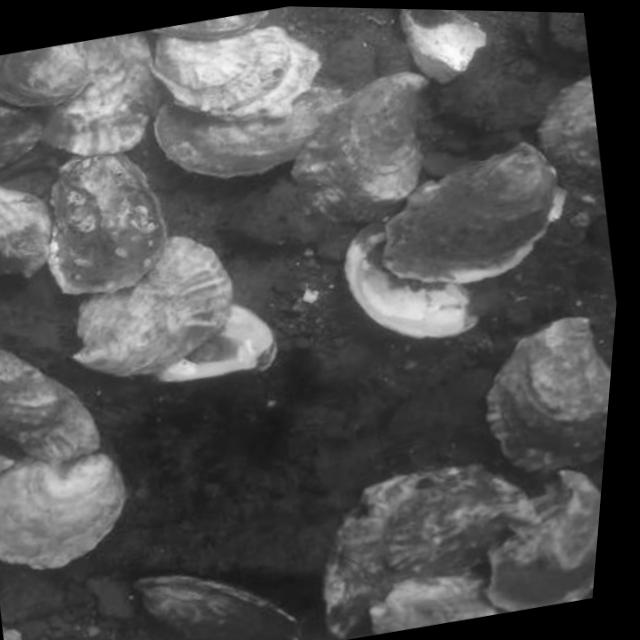Oyster-Closed: (383, 145, 566, 284)
Oyster-Indeterminate: (323, 465, 538, 637), (75, 236, 235, 377), (290, 72, 431, 221), (485, 318, 611, 471), (156, 85, 351, 177), (50, 153, 168, 296), (155, 26, 324, 121), (488, 471, 601, 611), (37, 31, 162, 156), (0, 450, 127, 567), (0, 350, 101, 461), (136, 575, 301, 640), (540, 75, 606, 213), (368, 576, 495, 635), (399, 9, 486, 83), (0, 43, 90, 107), (0, 188, 52, 277), (148, 10, 270, 40), (0, 107, 47, 171)
